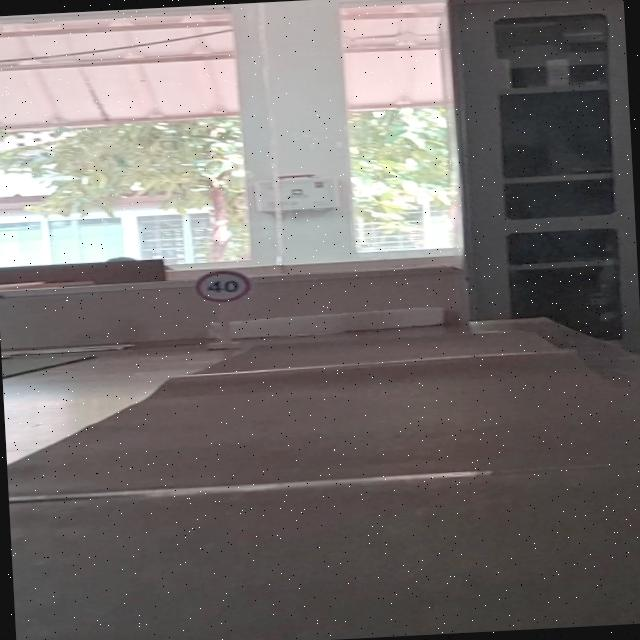Speed40: (193, 268, 256, 306)
